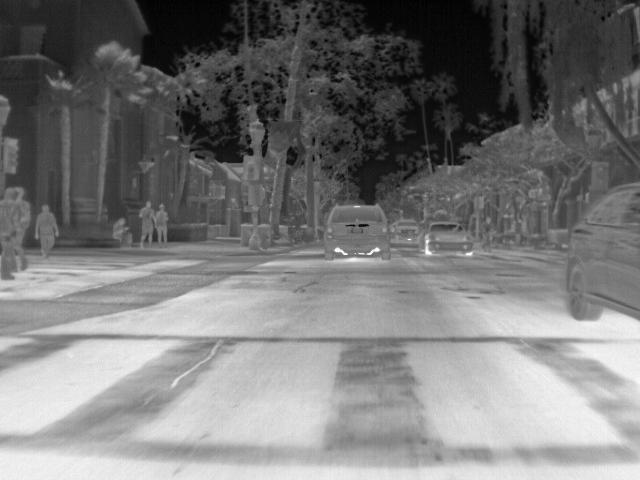car: (565, 182, 640, 322), (323, 202, 391, 260), (424, 221, 476, 258), (394, 216, 420, 238)
person: (1, 188, 29, 282), (32, 204, 60, 260), (137, 200, 157, 248), (152, 202, 170, 250), (112, 216, 133, 248), (479, 216, 497, 248)
